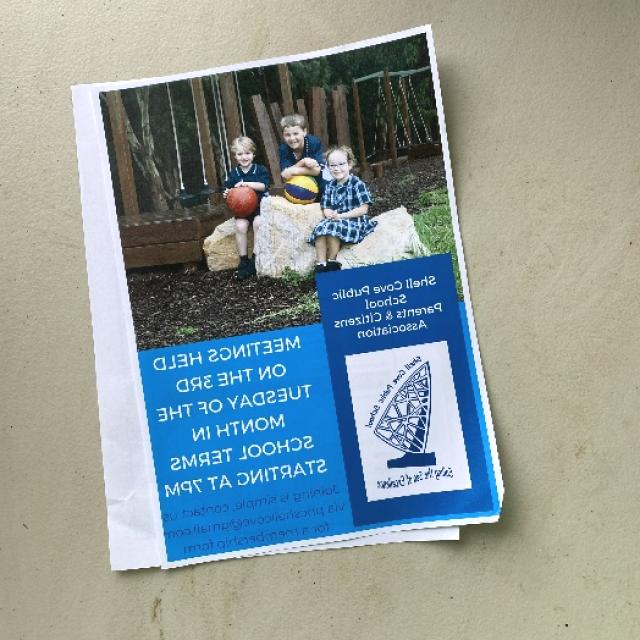inorganic: (61, 26, 502, 582)
